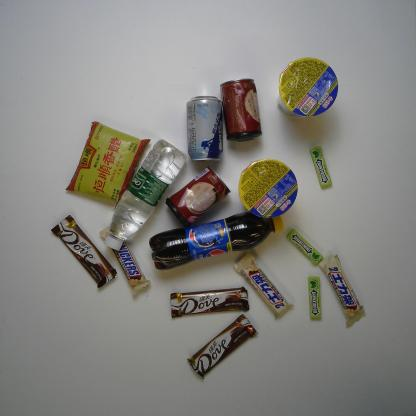Alcohol: (181, 93, 233, 159)
Canned Food: (167, 164, 229, 226), (218, 78, 271, 140)
Chocolate: (50, 214, 117, 294), (183, 314, 265, 379), (100, 223, 153, 300), (236, 253, 292, 319), (320, 253, 368, 326), (165, 286, 253, 322)
Drink: (102, 139, 187, 250), (149, 212, 286, 270)
Gum: (283, 227, 325, 265), (302, 146, 335, 188), (307, 275, 326, 319)
Instant Noodles: (275, 56, 343, 127), (236, 157, 303, 221)
Seasoner: (66, 120, 144, 211)
